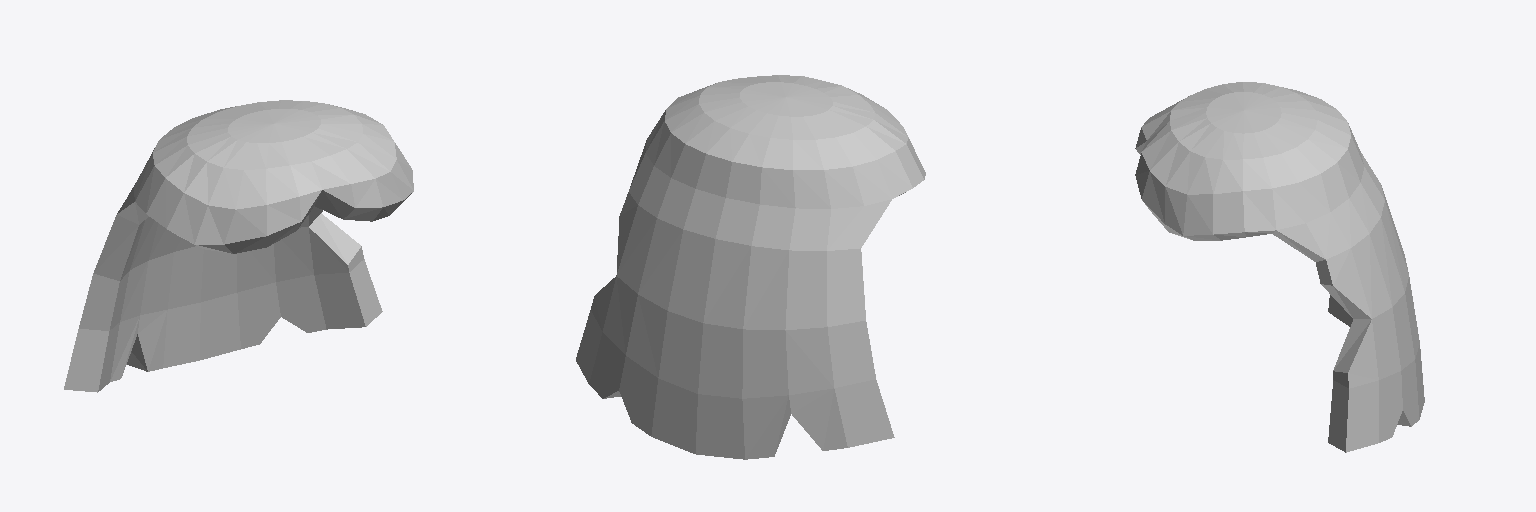
Rendered from skeleton_mage_cloak.obj.
3 renders of one model, left to right at view 1: azimuth 30°, elevation 25°; view 2: azimuth 150°, elevation 25°; view 3: azimuth 270°, elevation 25°, orthographic.
Parts seen in each view (by area): view 1: skeleton_mage_cloak_Cube.7746; view 2: skeleton_mage_cloak_Cube.7746; view 3: skeleton_mage_cloak_Cube.7746.
Boxes of the visible parts, box(x1,y1,x2,y2) form: skeleton_mage_cloak_Cube.7746: box(64, 100, 413, 392); skeleton_mage_cloak_Cube.7746: box(576, 75, 925, 459); skeleton_mage_cloak_Cube.7746: box(1135, 82, 1424, 452).
Bounding box in the file's own units: 0.8829 × 0.7693 × 0.6941.